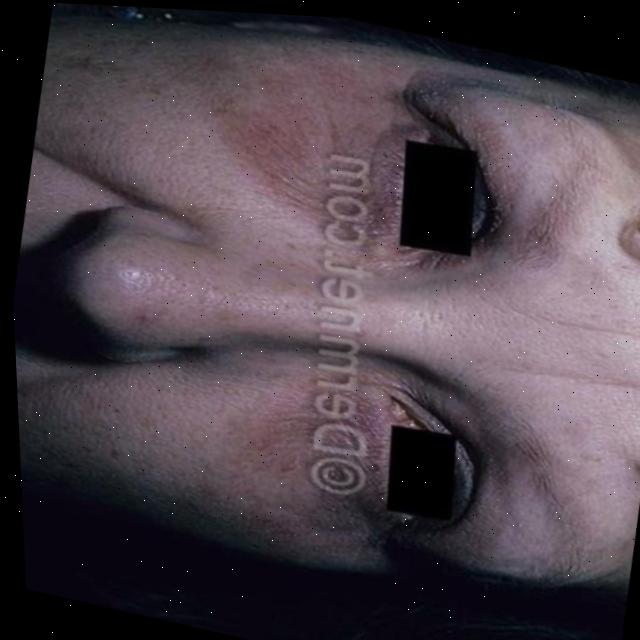Eczema: (208, 41, 476, 270), (239, 403, 452, 584)
